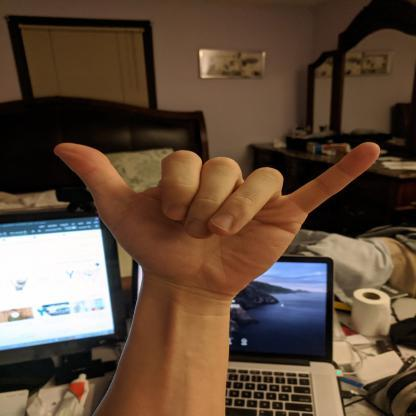Y: (49, 140, 385, 299)
